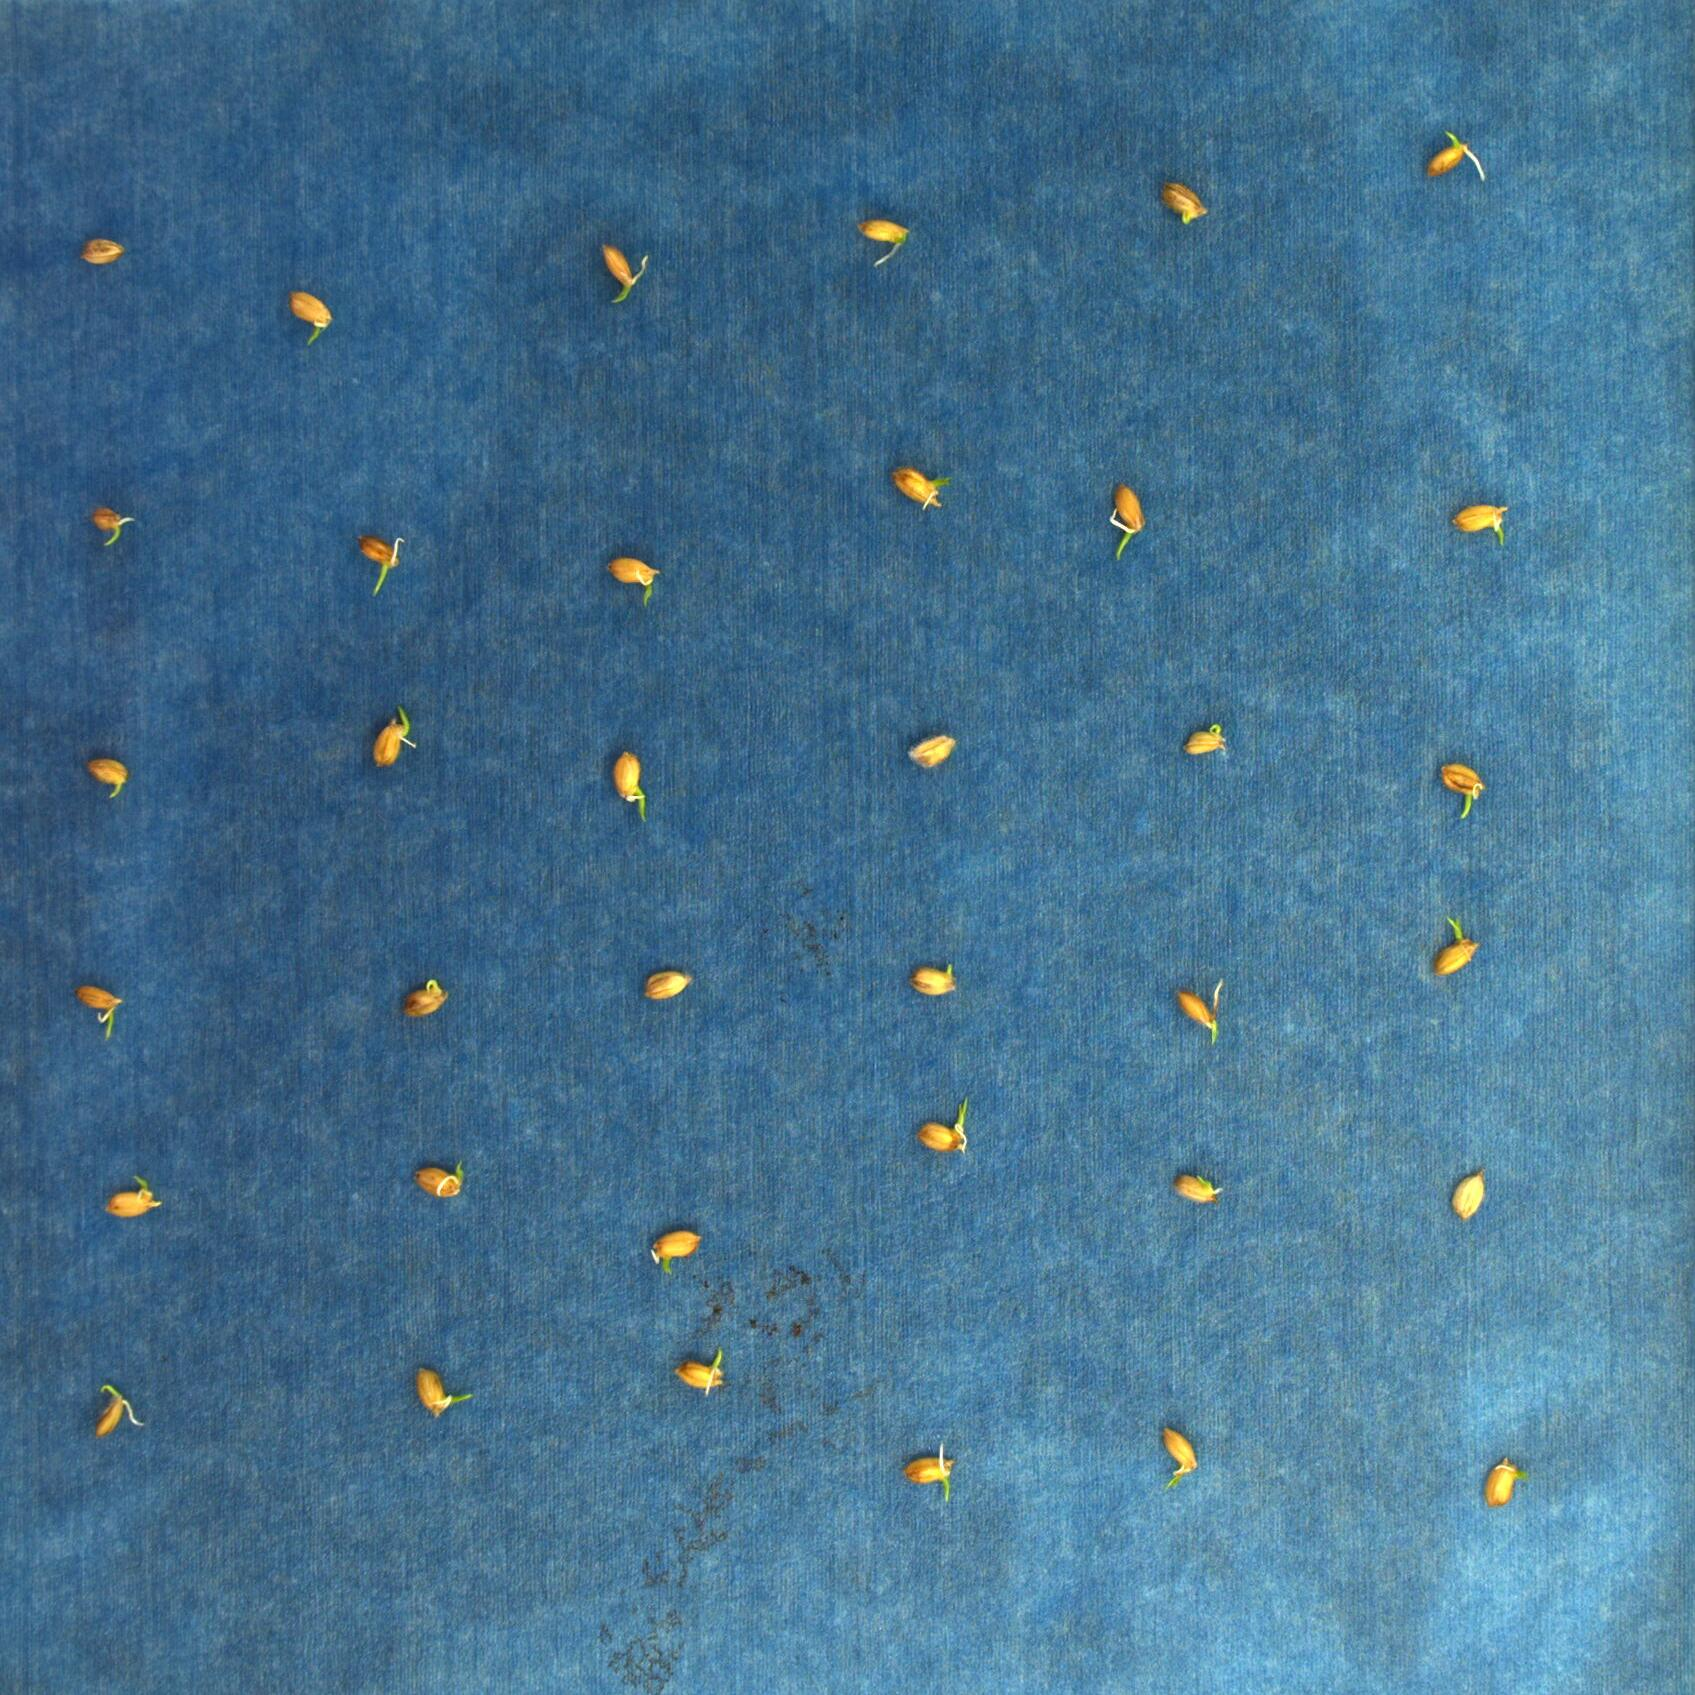not sprout: (1172, 979, 1225, 1048), (1425, 129, 1485, 185), (893, 463, 951, 512), (607, 556, 660, 608), (650, 1231, 703, 1281), (106, 1177, 165, 1220), (857, 219, 910, 265), (400, 976, 452, 1021), (1159, 182, 1212, 224), (1450, 1166, 1487, 1220), (411, 1161, 464, 1198), (1161, 1425, 1197, 1478), (1484, 1456, 1520, 1506), (908, 736, 956, 771), (910, 961, 958, 997), (87, 756, 129, 796), (1180, 723, 1228, 757), (1172, 1173, 1222, 1205), (640, 972, 692, 1000), (79, 237, 126, 265)
sprout: (900, 1440, 956, 1503), (1107, 481, 1147, 563), (914, 1097, 972, 1155), (1431, 914, 1481, 979), (355, 532, 404, 598), (414, 1367, 477, 1417), (599, 244, 647, 307), (92, 1383, 144, 1439), (75, 984, 124, 1043), (1439, 761, 1487, 820), (373, 705, 416, 768), (289, 289, 334, 348), (612, 751, 647, 824), (1451, 504, 1510, 546), (672, 1347, 723, 1391), (92, 508, 135, 546)
